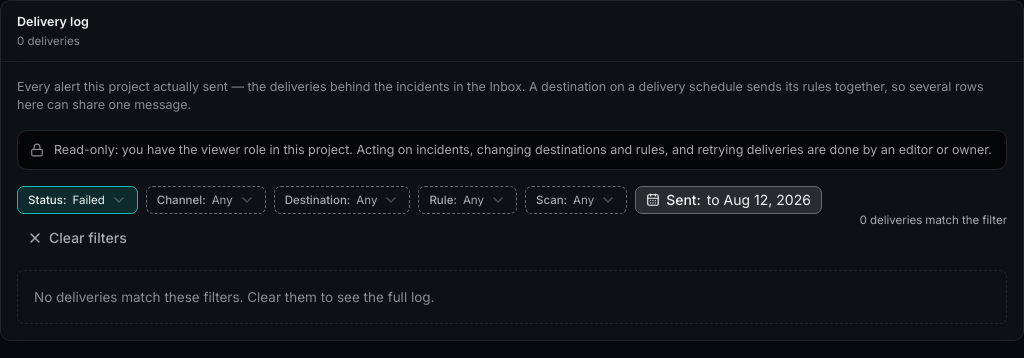
AlertAuditPanel filters › clears every filter at once
The width and height of the screenshot is (1024, 358).
Step 1. Click the button "Clear filters" → point(77, 238), box [17,222,137,254]
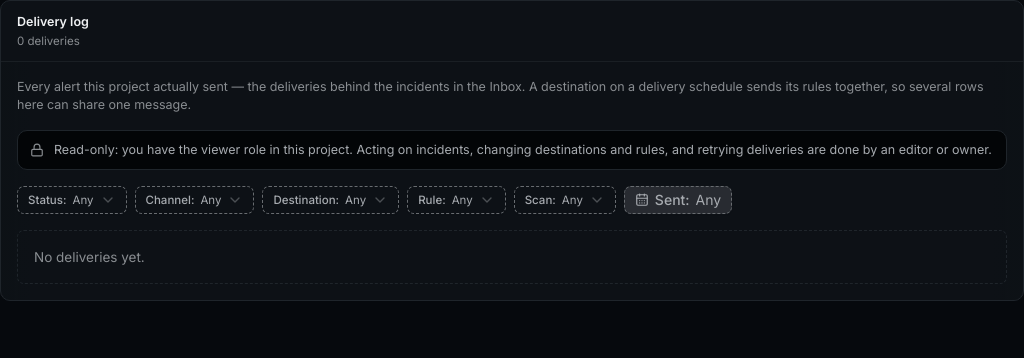
Check: the button "Clear filters" is gone
